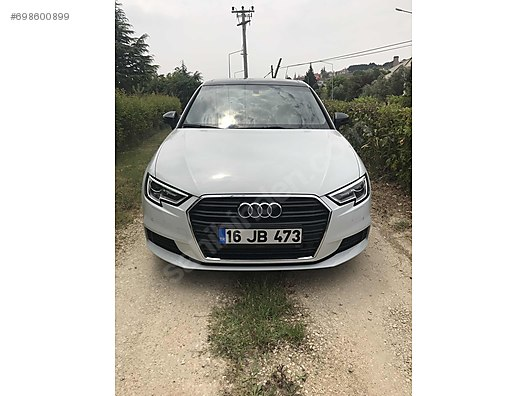audi: (233, 200, 285, 221)
